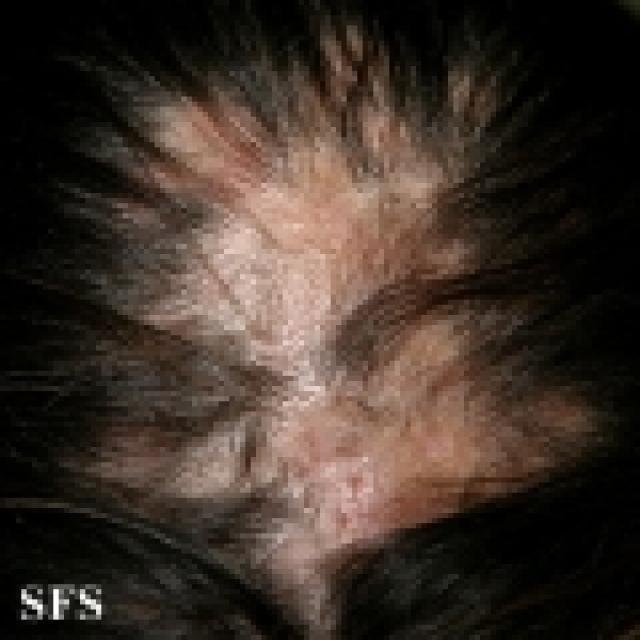lupus: (133, 94, 502, 567)
